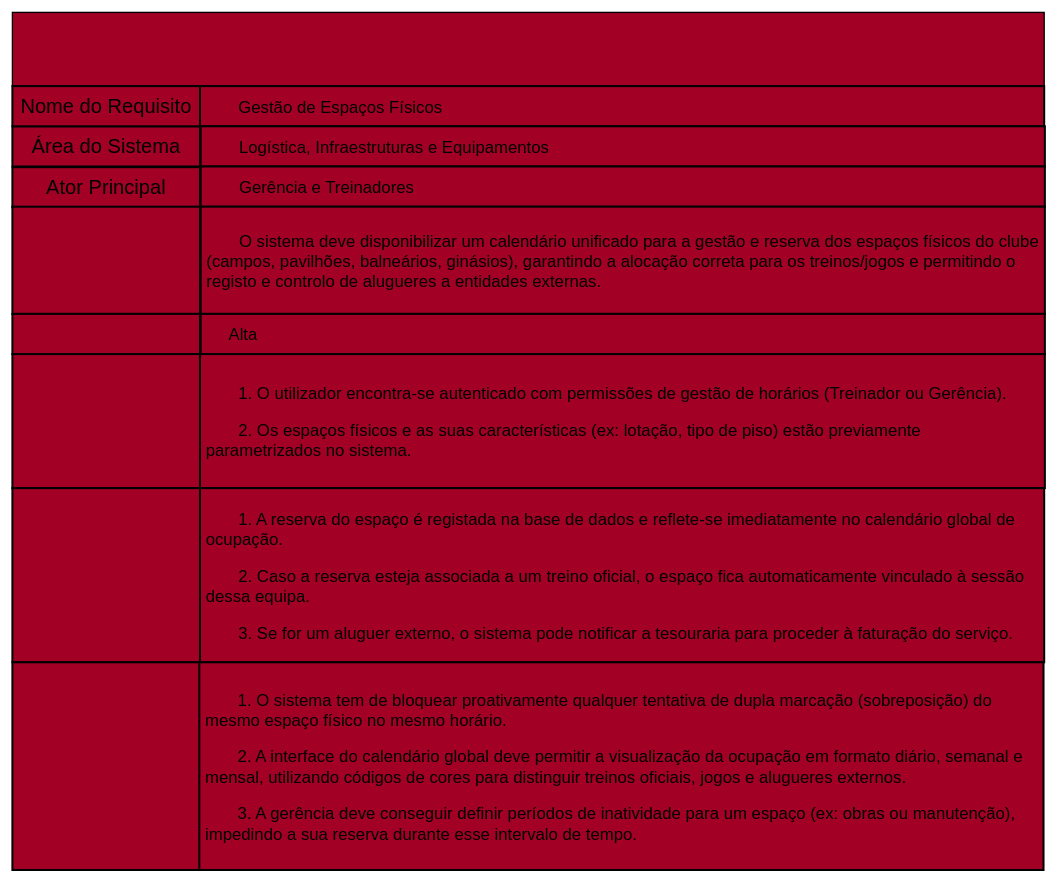
This 1057x882 diagram has some shape labels left out. The shapes that lost their labels are listed below. From the top down, each one's box as (x1, y1, x2, y2) in pixels, then its label:
(11, 11, 1045, 86): RF-20
(11, 205, 201, 315): Descrição
(11, 313, 201, 355): Prioridade
(11, 353, 201, 489): Pré-condições
(11, 487, 201, 663): Pós-condições
(11, 661, 201, 871): Critérios de Aceitação
